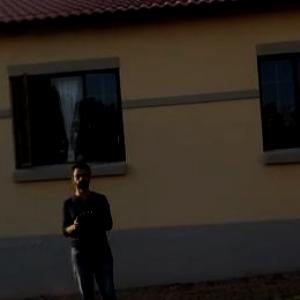follow: (57, 154, 126, 298)
